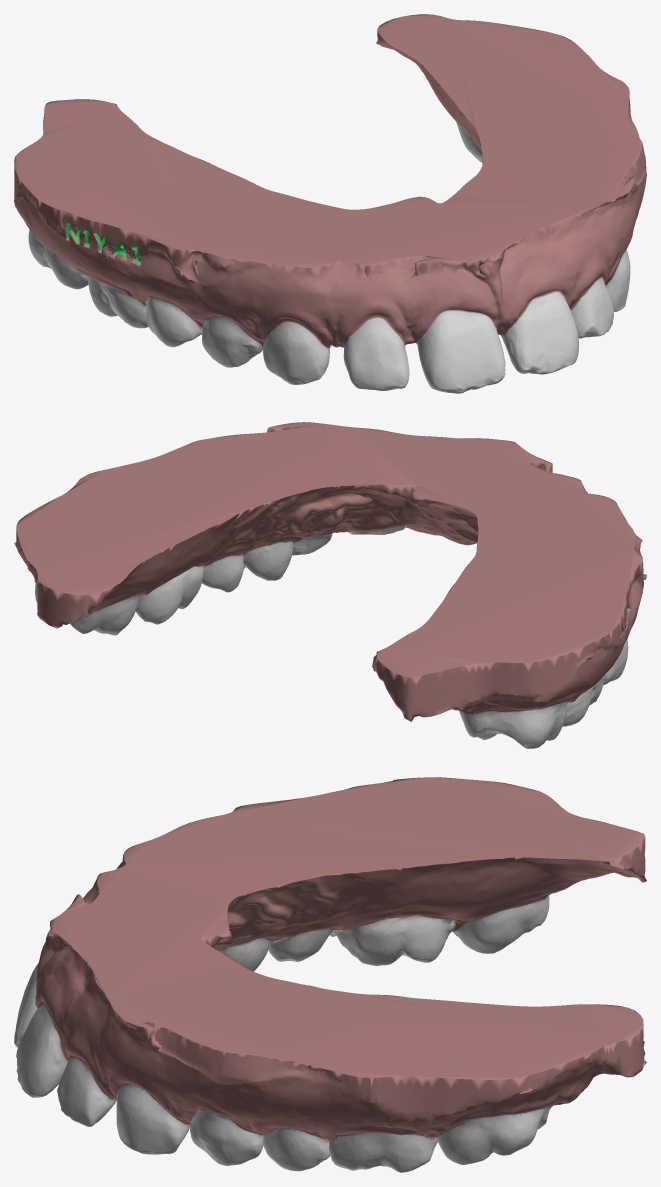
The model's file is Niya Priority Upper jaw - 01 - Model.glb.
The picture shows the model from 3 angles, top to bottom: view 1: azimuth 30°, elevation 25°; view 2: azimuth 150°, elevation 25°; view 3: azimuth 270°, elevation 25°; orthographic projection. The views are drawn at different scales.
Parts seen in each view (by area): view 1: Niya Priority Upper jaw - 01 - Model; view 2: Niya Priority Upper jaw - 01 - Model; view 3: Niya Priority Upper jaw - 01 - Model.
Boxes of the visible parts, left/top/right/bottom form: Niya Priority Upper jaw - 01 - Model: left=14, top=14, right=646, bottom=393; Niya Priority Upper jaw - 01 - Model: left=14, top=422, right=646, bottom=748; Niya Priority Upper jaw - 01 - Model: left=14, top=777, right=646, bottom=1172.
Size of the model in its own units: 66.36 by 13.69 by 58.58.
